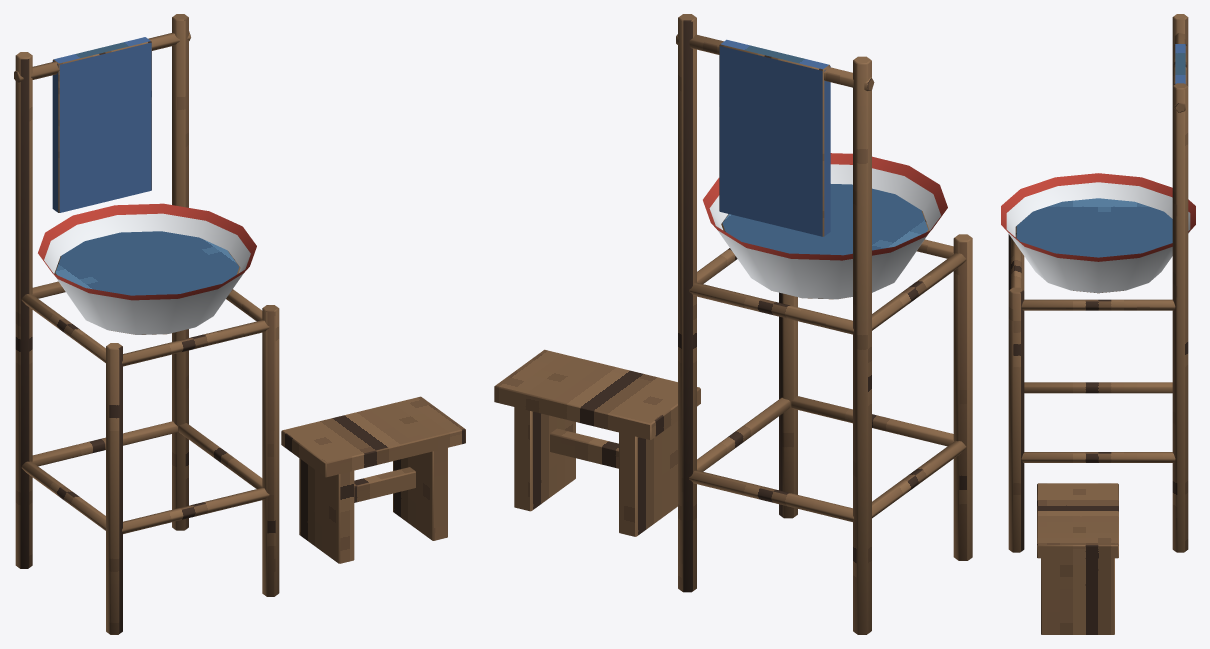
File: cn_basin_stool_1.glb
3 renders of one model, left to right at view 1: azimuth 30°, elevation 25°; view 2: azimuth 150°, elevation 25°; view 3: azimuth 270°, elevation 25°, orthographic. The views are drawn at different scales.
Parts seen in each view (by area): view 1: cn_basin_stool_2; view 2: cn_basin_stool_2; view 3: cn_basin_stool_2.
Boxes of the visible parts, x1=… form: cn_basin_stool_2: x1=14, y1=14, x2=465, y2=634; cn_basin_stool_2: x1=494, y1=14, x2=972, y2=634; cn_basin_stool_2: x1=1001, y1=14, x2=1195, y2=634.
Bounding box in the file's own units: 0.9738 × 1.25 × 0.4754.
Materials: 5 (5 with a texture image).
